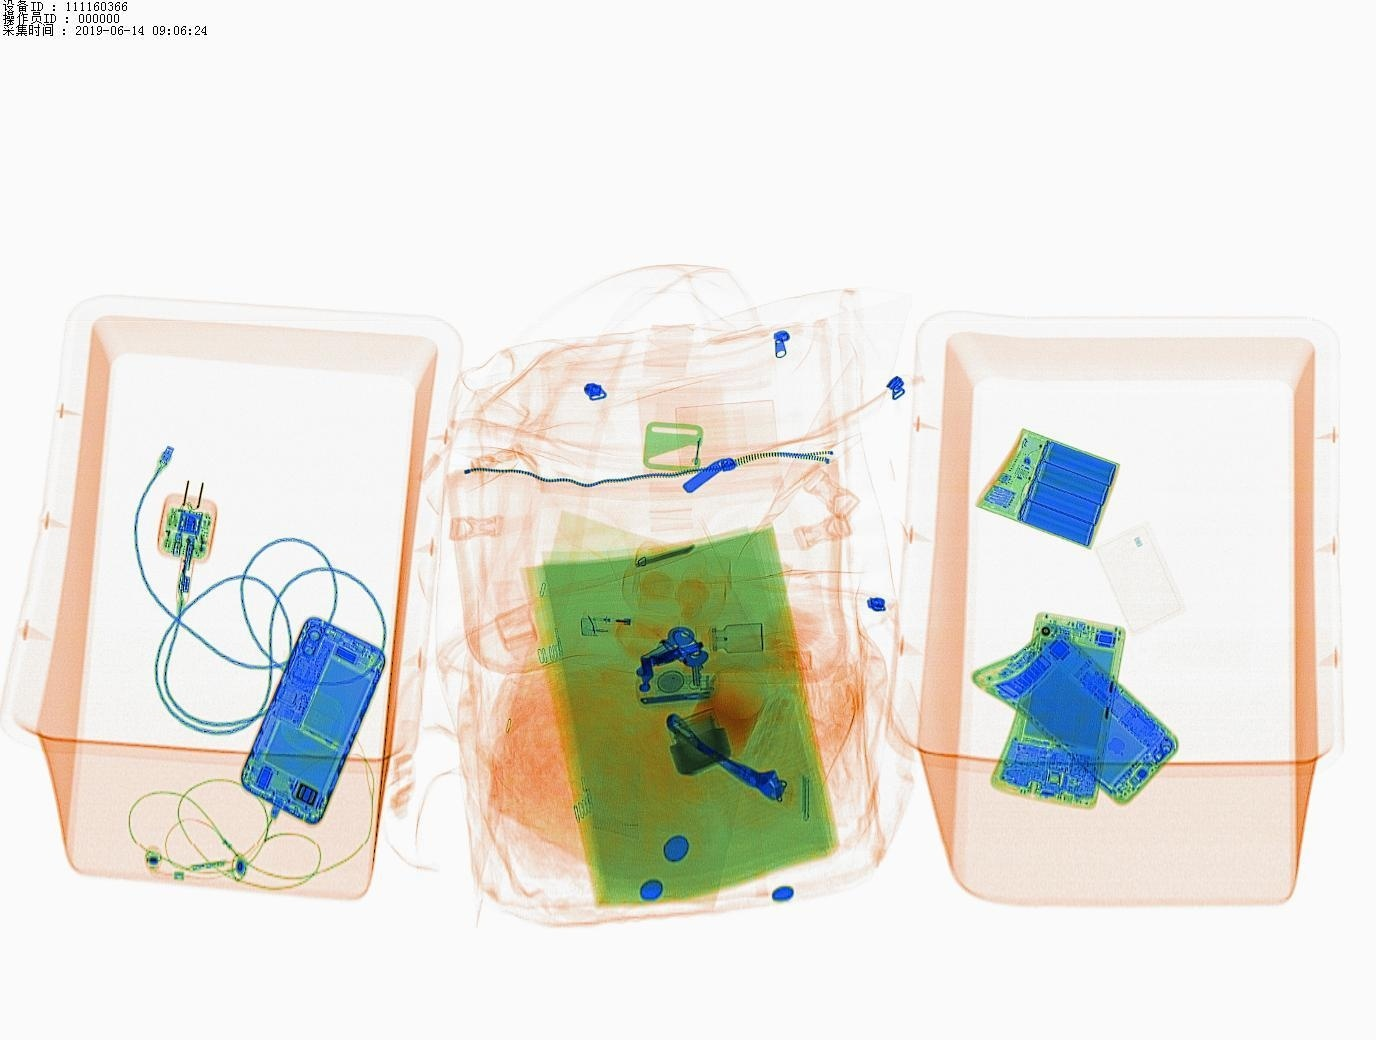NonmetallicFire: (588, 598, 678, 646)
